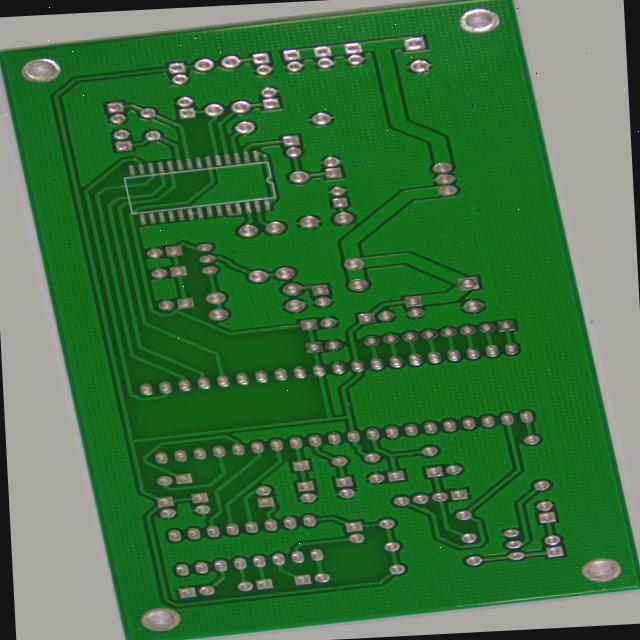spur: (390, 460, 408, 469), (396, 519, 411, 529), (330, 405, 342, 415)
